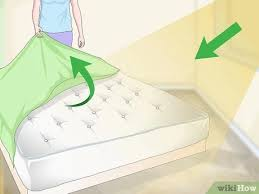bed-matress: (1, 70, 208, 193)
